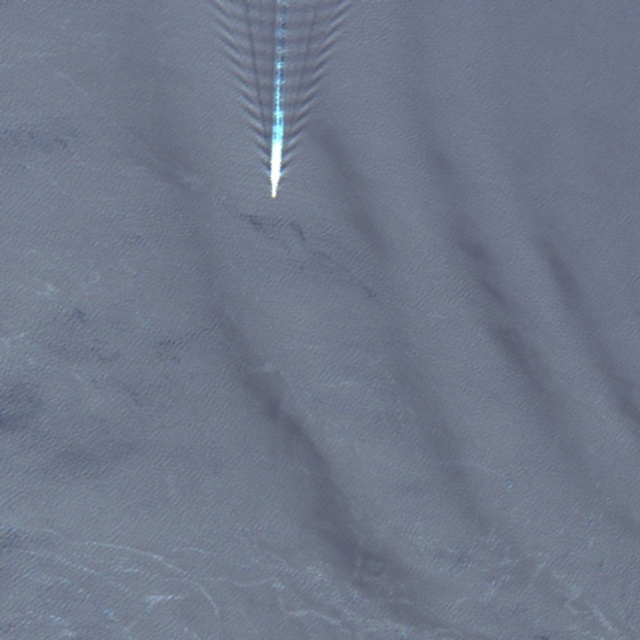wake: (237, 15, 320, 202)
